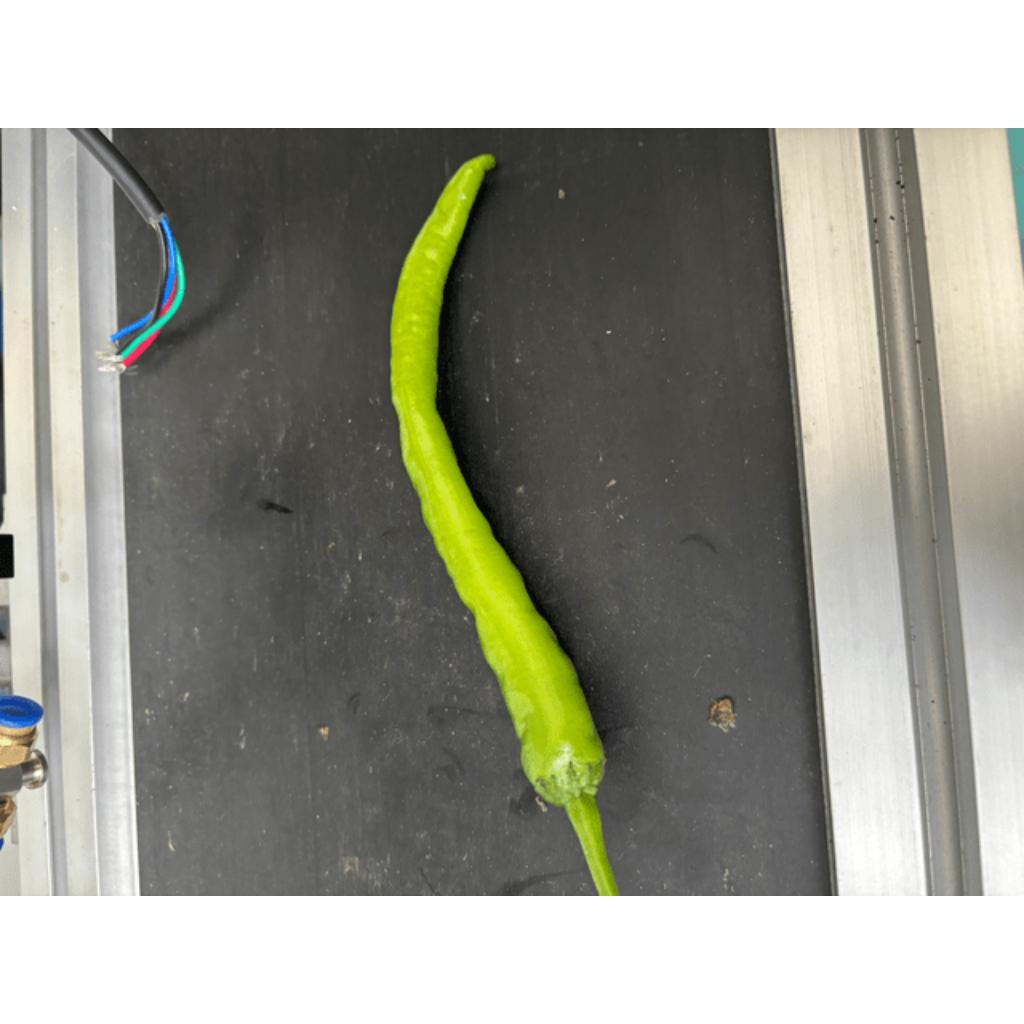chili: (387, 149, 607, 810)
